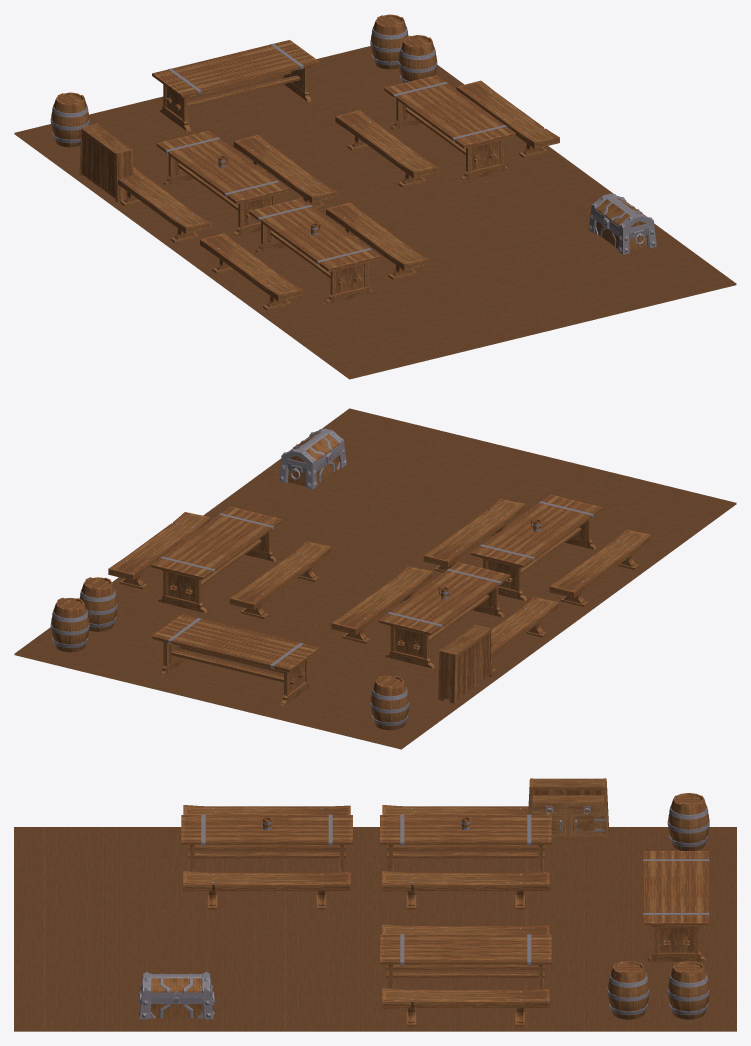
Rendered from inn_in.gltf.
The picture shows the model from 3 angles, top to bottom: view 1: azimuth 30°, elevation 25°; view 2: azimuth 150°, elevation 25°; view 3: azimuth 270°, elevation 25°; orthographic projection. The views are drawn at different scales.
Parts seen in each view (by area): view 1: inn_in; view 2: inn_in; view 3: inn_in.
Boxes of the visible parts, box(x1,y1,x2,y2) form: inn_in: box(14, 14, 736, 379); inn_in: box(14, 408, 736, 749); inn_in: box(14, 778, 736, 1031).
Bounding box in the file's own units: 8 × 1.02 × 12.
3 materials, 3 textured.
